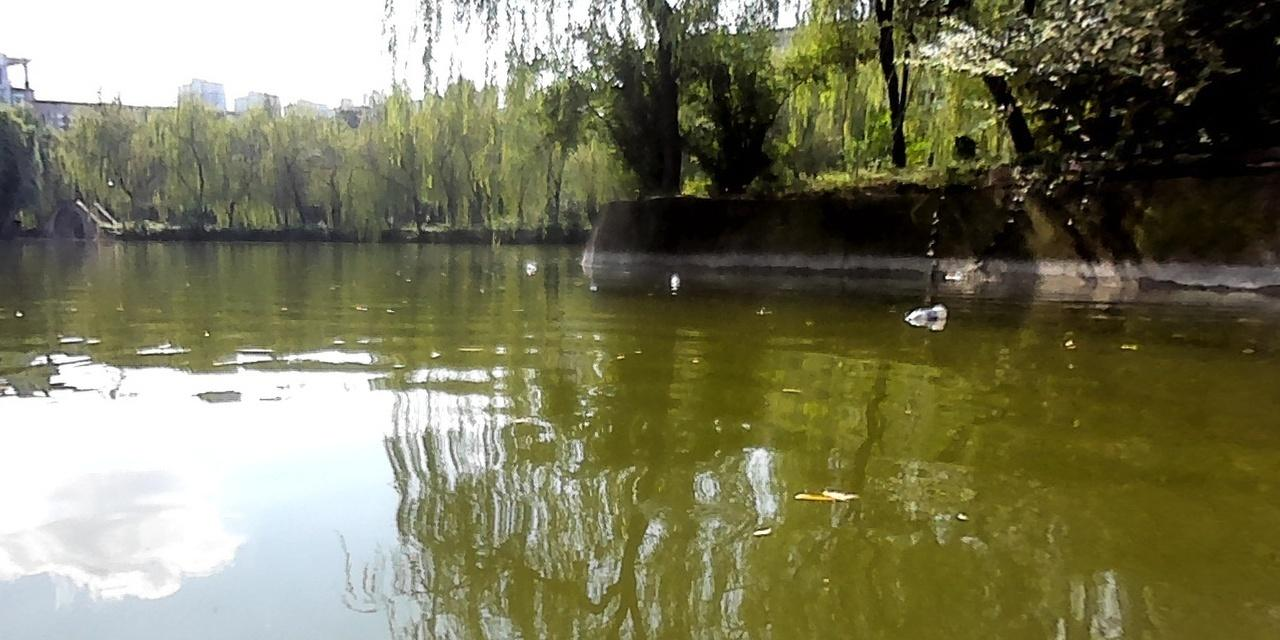bottle: (899, 301, 945, 325)
